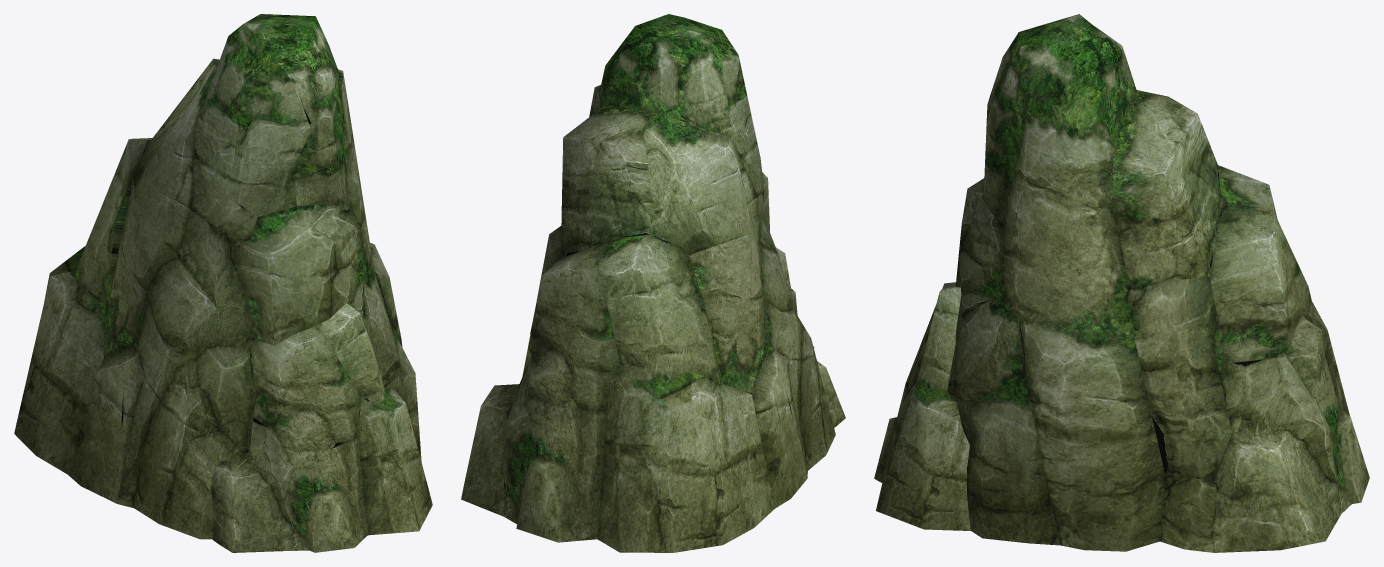
The model's file is Utility_Stone_Maincity11_03_LOD2.FBX.
The picture shows the model from 3 angles, left to right: view 1: azimuth 30°, elevation 25°; view 2: azimuth 150°, elevation 25°; view 3: azimuth 270°, elevation 25°; orthographic projection. The views are drawn at different scales.
Parts seen in each view (by area): view 1: Utility_Stone_Maincity11_03_LOD2; view 2: Utility_Stone_Maincity11_03_LOD2; view 3: Utility_Stone_Maincity11_03_LOD2.
Part boxes in pixels (x1=…): Utility_Stone_Maincity11_03_LOD2: x1=14, y1=14, x2=432, y2=552; Utility_Stone_Maincity11_03_LOD2: x1=461, y1=14, x2=845, y2=552; Utility_Stone_Maincity11_03_LOD2: x1=874, y1=14, x2=1369, y2=552.
Size of the model in its own units: 772 by 1128 by 1103.
